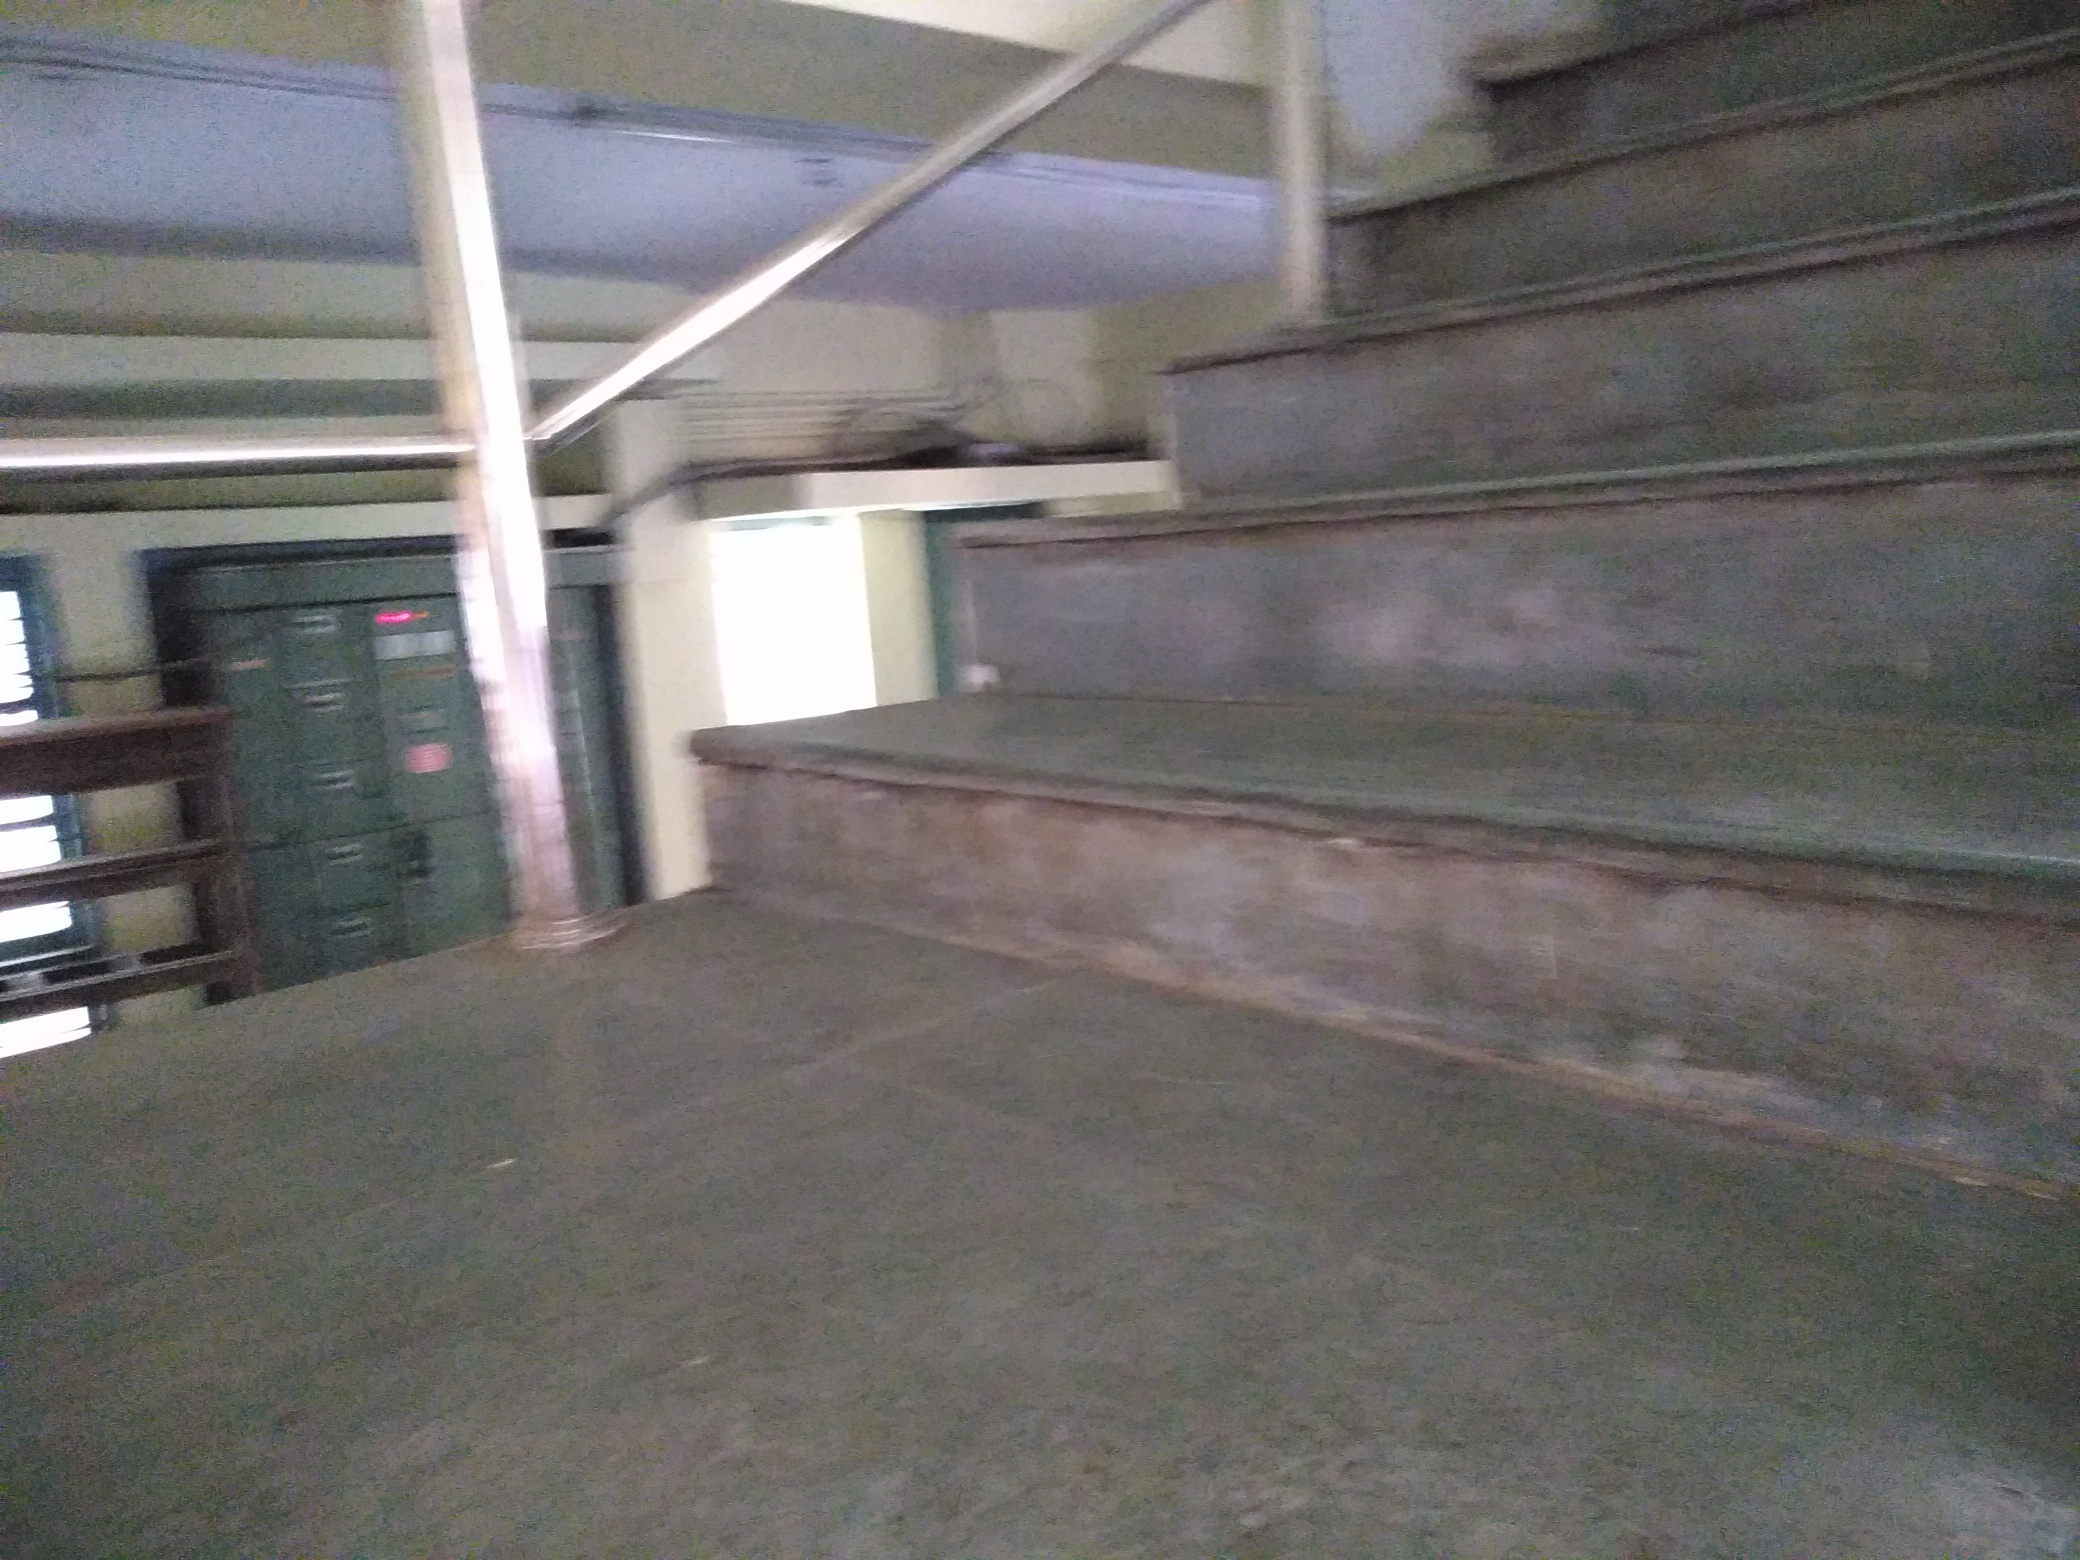stairs_up: (793, 31, 2055, 1041)
